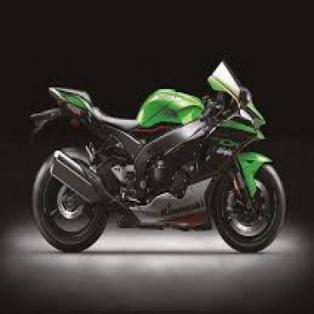Motocicleta: (21, 58, 291, 256)
